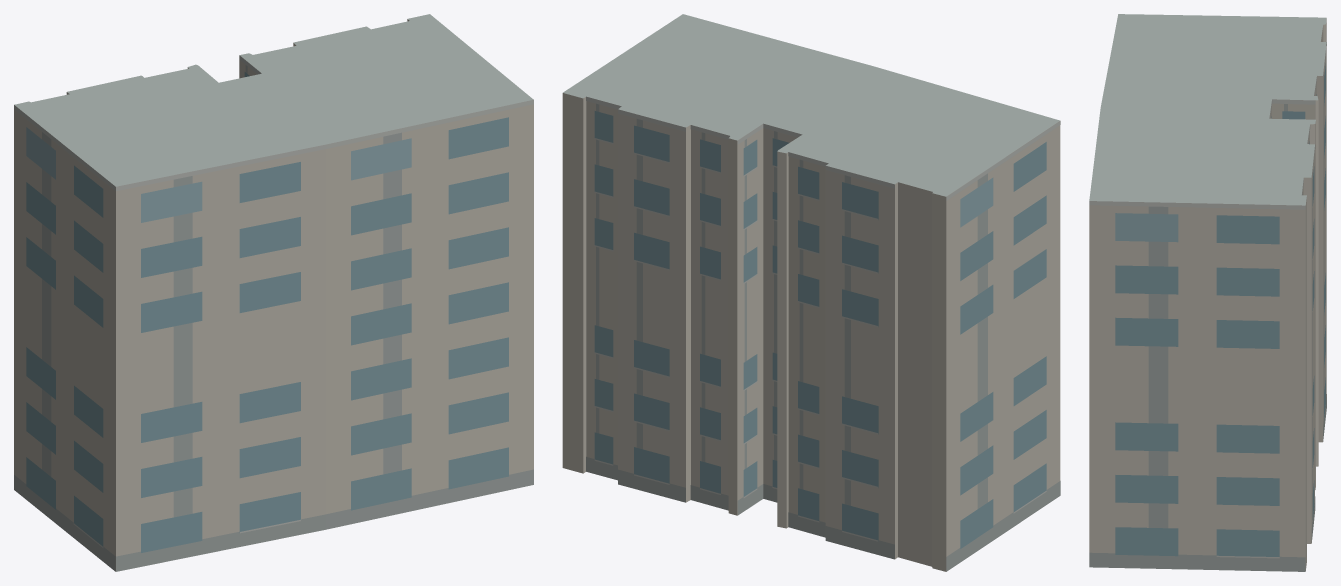
The model's file is survey-upis-32867174.glb.
3 renders of one model, left to right at view 1: azimuth 30°, elevation 25°; view 2: azimuth 150°, elevation 25°; view 3: azimuth 270°, elevation 25°, orthographic. The views are drawn at different scales.
Visible parts, largest first — view 1: survey-upis-32867174.tmp; view 2: survey-upis-32867174.tmp; view 3: survey-upis-32867174.tmp.
Boxes of the visible parts, <box> form: survey-upis-32867174.tmp: <box>14,14,533,571</box>; survey-upis-32867174.tmp: <box>562,14,1060,571</box>; survey-upis-32867174.tmp: <box>1089,14,1326,571</box>.
Bounding box in the file's own units: 23.44 × 20.9 × 12.29.
